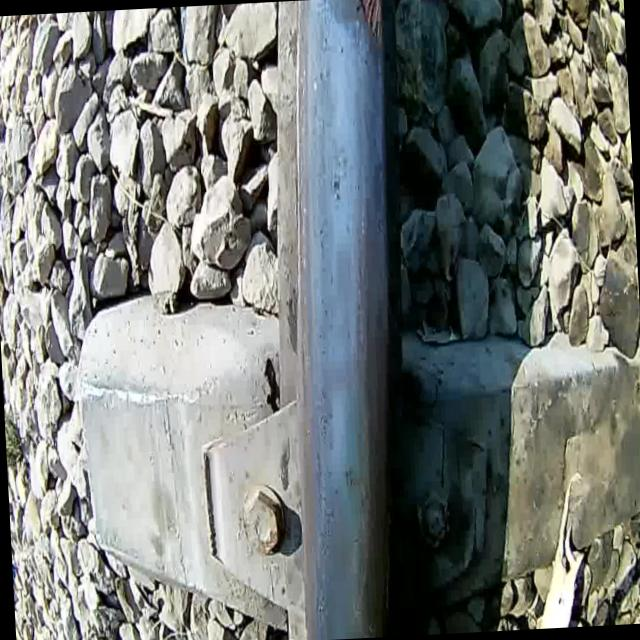Spallings: (351, 0, 386, 50)
Squats: (316, 0, 397, 79)
